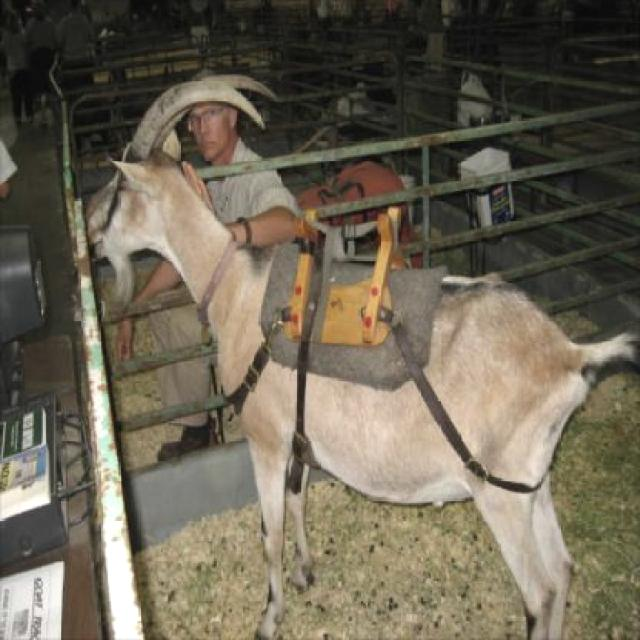Person: (117, 68, 306, 464), (0, 0, 98, 206)
